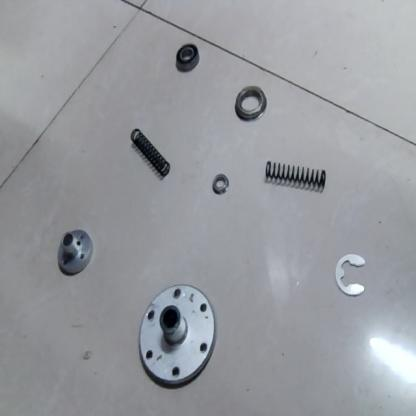FOD: (1, 2, 415, 415), (134, 278, 218, 394), (262, 155, 331, 193), (129, 123, 173, 180), (53, 226, 98, 279), (330, 252, 372, 300), (231, 82, 270, 124), (172, 42, 202, 74), (209, 168, 230, 200)
